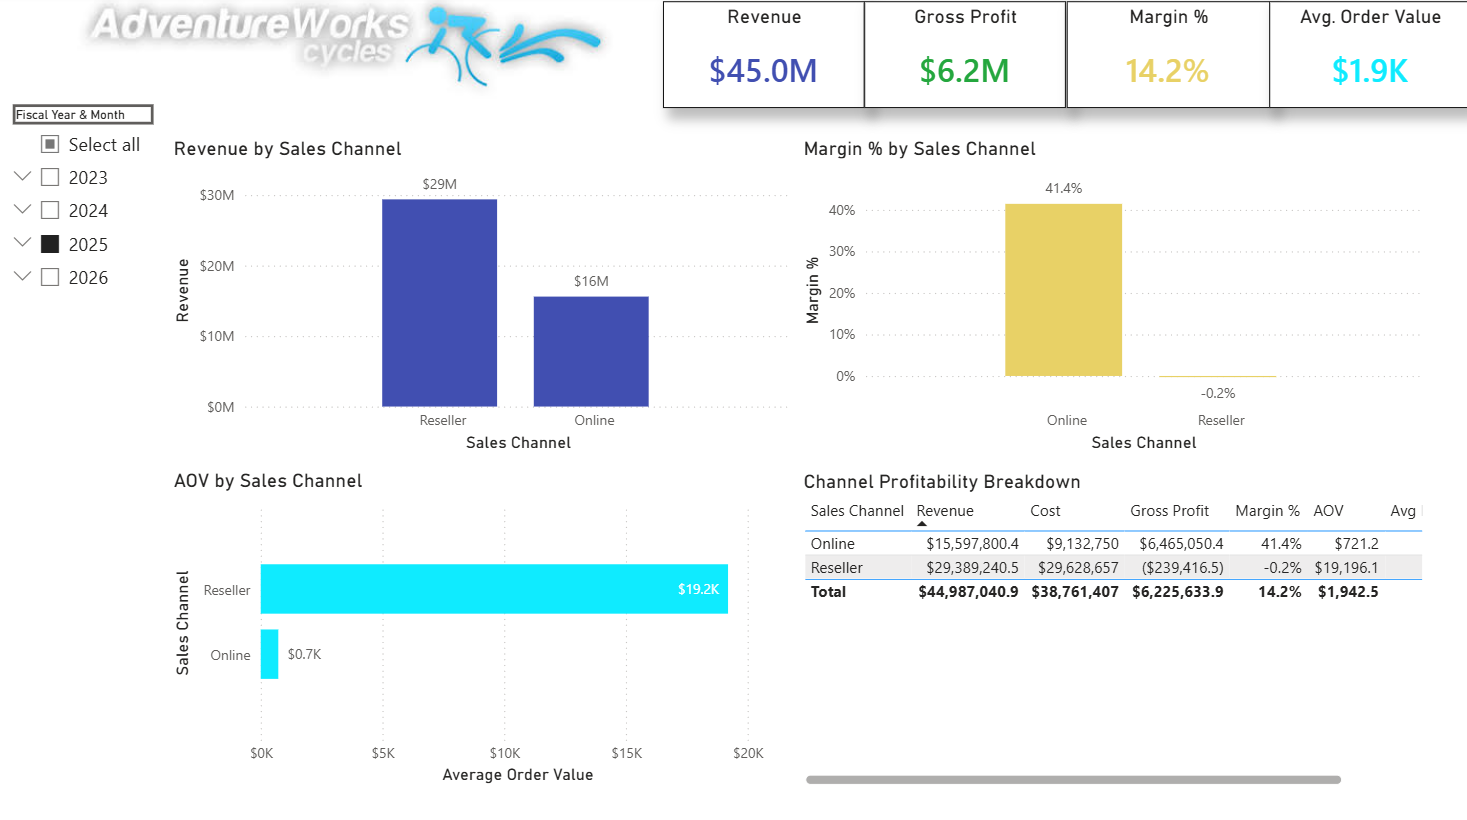

This screenshot's page, from the dashboard's own definition file:
{"tool":"powerbi","page":{"name":"Sales Channel Analysis","canvas":[1280,720],"ordinal":4},"visuals":[{"type":"image","box":[8.9,0,586.8,90.4],"z":0},{"type":"cardVisual","title":"Revenue","fields":{"Data":["Order Items.Revenue after Discount"]},"box":[578,5,175.2,93],"z":1000},{"type":"slicer","fields":{"Values":["Calendar.Fiscal Year Hierarchy.Fiscal Year","Calendar.Fiscal Year Hierarchy.Fiscal Month"]},"box":[0,90.3,148.2,173.8],"z":2000},{"type":"cardVisual","title":"Gross Profit","fields":{"Data":["Order Items.Gross Profit after Discount"]},"box":[753.2,5,175.2,93],"z":3000},{"type":"cardVisual","title":"Margin %","fields":{"Data":["Order Items.Margin %"]},"box":[928.3,5,176.5,93],"z":4000},{"type":"cardVisual","title":"Avg. Order Value","fields":{"Data":["Order Items.AOV"]},"box":[1104.8,5,175.2,93],"z":5000},{"type":"clusteredColumnChart","title":"Revenue by Sales Channel","fields":{"Y":["Order Items.Revenue after Discount"],"Category":["Orders.Sales Channel"]},"box":[148.2,122.6,547,278.9],"z":6000},{"type":"clusteredColumnChart","title":"Margin % by Sales Channel","fields":{"Y":["Order Items.Margin %"],"Category":["Orders.Sales Channel"]},"box":[695.2,122.6,547,278.9],"z":7000},{"type":"clusteredBarChart","fields":{"Category":["Orders.Sales Channel"],"Y":["Order Items.AOV"]},"box":[148,412,547,279],"z":8000},{"type":"tableEx","title":"Channel Profitability Breakdown","fields":{"Values":["Orders.Sales Channel","Order Items.Revenue after Discount","Order Items.Cost","Order Items.Gross Profit after Discount","Order Items.Margin %","Order Items.AOV","Order Items.Avg Price vs Cost"]},"box":[695.2,412.3,547,278.9],"z":9000}]}

Visuals, with their boxes in screenshot pixels (x1, y1, x2, y2), scaled from the page's 1280x720 canvas onto the 1467x820 screenshot:
image: left=10, top=0, right=683, bottom=103
"Revenue" cardVisual: left=662, top=6, right=863, bottom=112
slicer - Calendar.Fiscal Year Hierarchy.Fiscal Year x Calendar.Fiscal Year Hierarchy.Fiscal Month: left=0, top=103, right=170, bottom=301
"Gross Profit" cardVisual: left=863, top=6, right=1064, bottom=112
"Margin %" cardVisual: left=1064, top=6, right=1266, bottom=112
"Avg. Order Value" cardVisual: left=1266, top=6, right=1466, bottom=112
"Revenue by Sales Channel" clusteredColumnChart: left=170, top=140, right=797, bottom=457
"Margin % by Sales Channel" clusteredColumnChart: left=797, top=140, right=1424, bottom=457
clusteredBarChart - Orders.Sales Channel x Order Items.AOV: left=170, top=469, right=797, bottom=787
"Channel Profitability Breakdown" tableEx: left=797, top=470, right=1424, bottom=787
